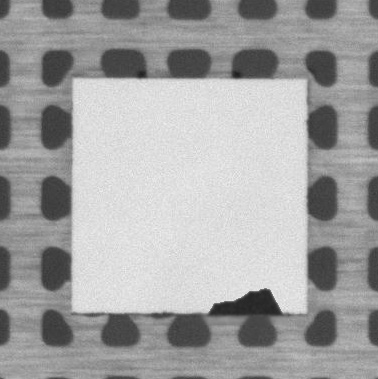DIE_BROKEN: (206, 286, 286, 315)
